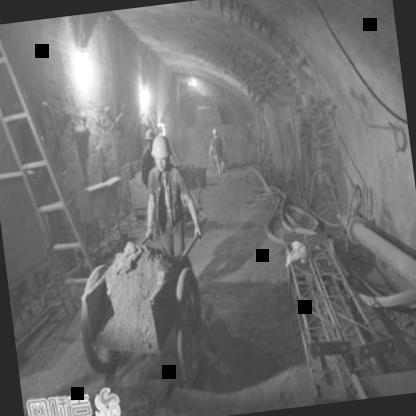helmet: (148, 130, 174, 173), (142, 124, 156, 146)
